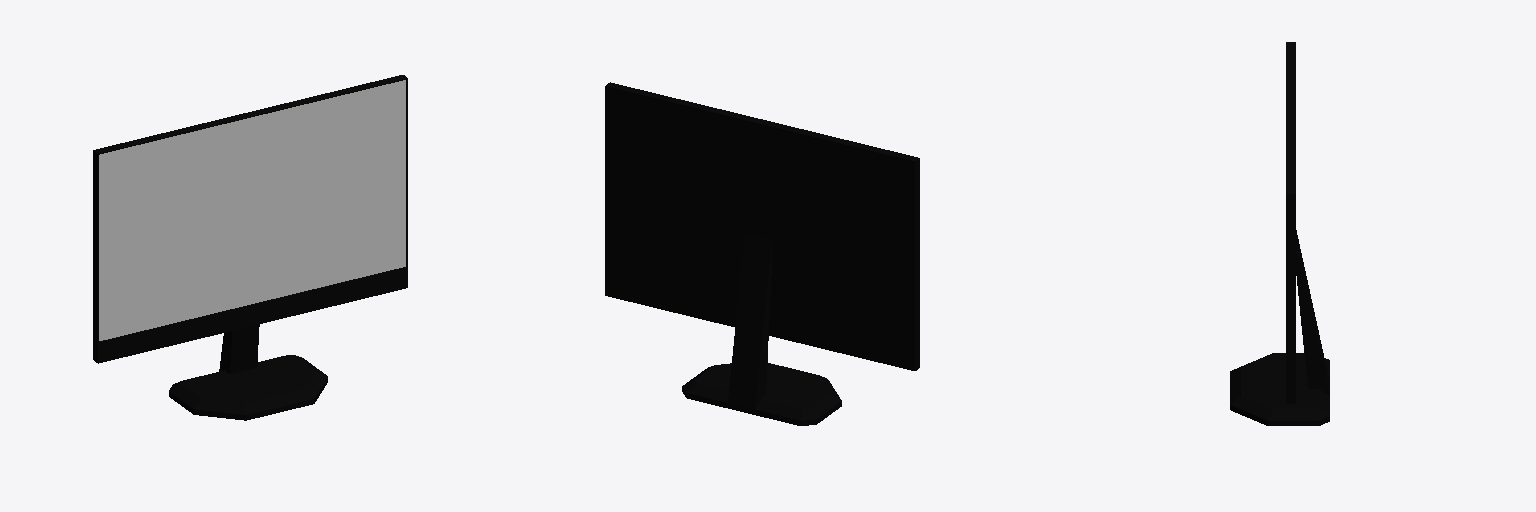
Rendered from screen.obj.
3 views of the same model, side by side, from view 1: azimuth 30°, elevation 25°; view 2: azimuth 150°, elevation 25°; view 3: azimuth 270°, elevation 25° (orthographic).
Parts seen in each view (by area): view 1: screen; view 2: screen; view 3: screen.
Boxes of the visible parts, box(x1,y1,x2,y2) form: screen: box(93, 75, 407, 420); screen: box(605, 82, 919, 425); screen: box(1230, 42, 1329, 425).
Size of the model in its own units: 0.5433 by 0.462 by 0.1516.